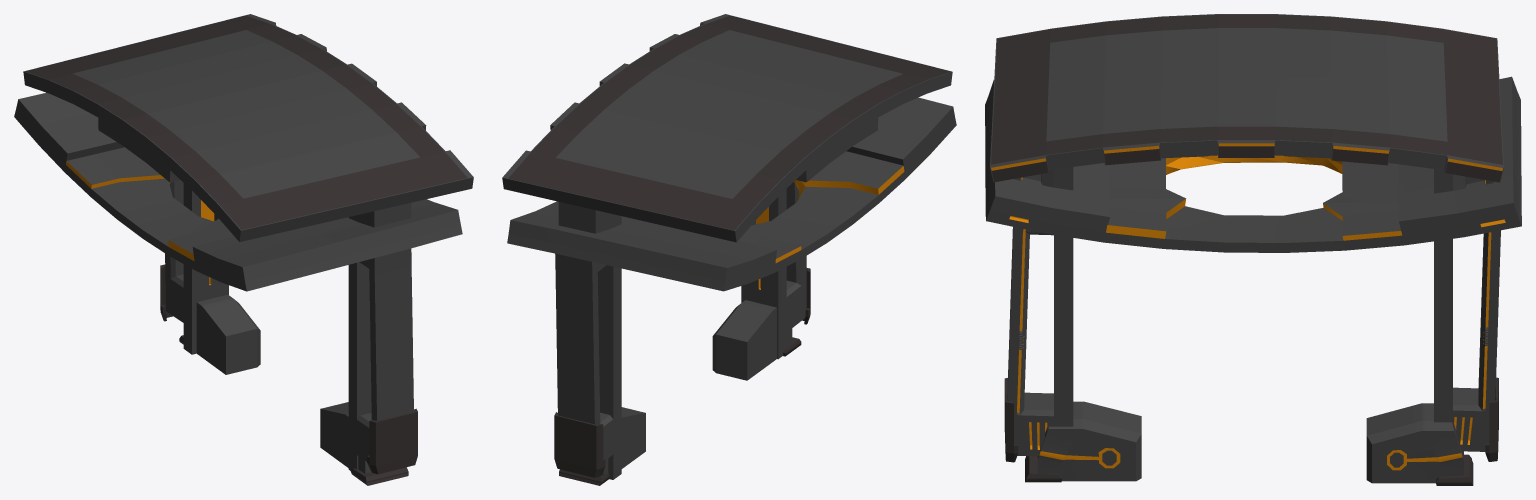
File: Arco.fbx
The picture shows the model from 3 angles, left to right: view 1: azimuth 30°, elevation 25°; view 2: azimuth 150°, elevation 25°; view 3: azimuth 270°, elevation 25°; orthographic projection. The views are drawn at different scales.
Parts seen in each view (by area): view 1: pCube16; view 2: pCube16; view 3: pCube16.
Part boxes in pixels (box(x1,y1,x2,y2)): pCube16: box(14, 14, 473, 485); pCube16: box(502, 14, 956, 485); pCube16: box(985, 14, 1521, 485).
Bounding box in the file's own units: 6.28 × 8.28 × 10.94.
